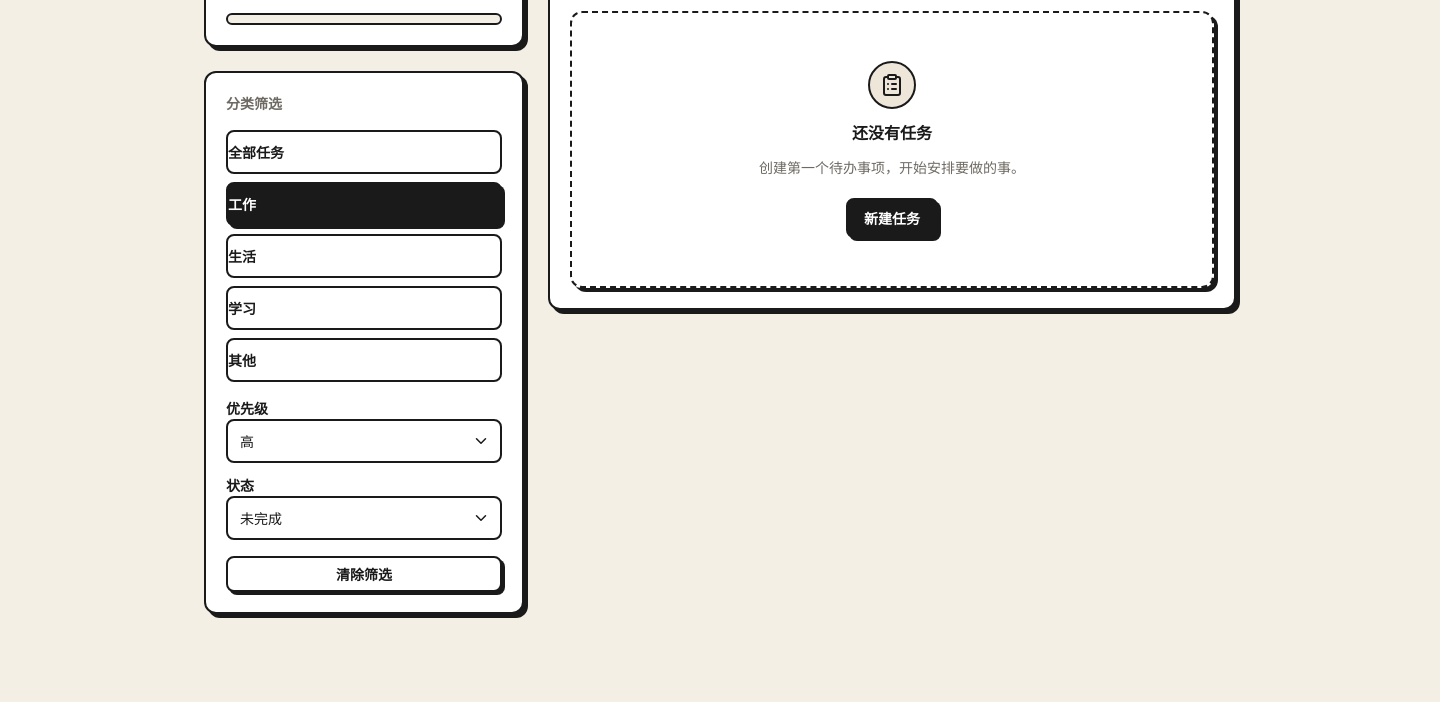
Test case: App 筛选接入 › 清除筛选：三维与关键词全部复位，并弹出 Toast 反馈
The width and height of the screenshot is (1440, 702).
(page scrolled)
Click the button "清除筛选" at (364, 574), box [226,556,502,592]
(page scrolled)
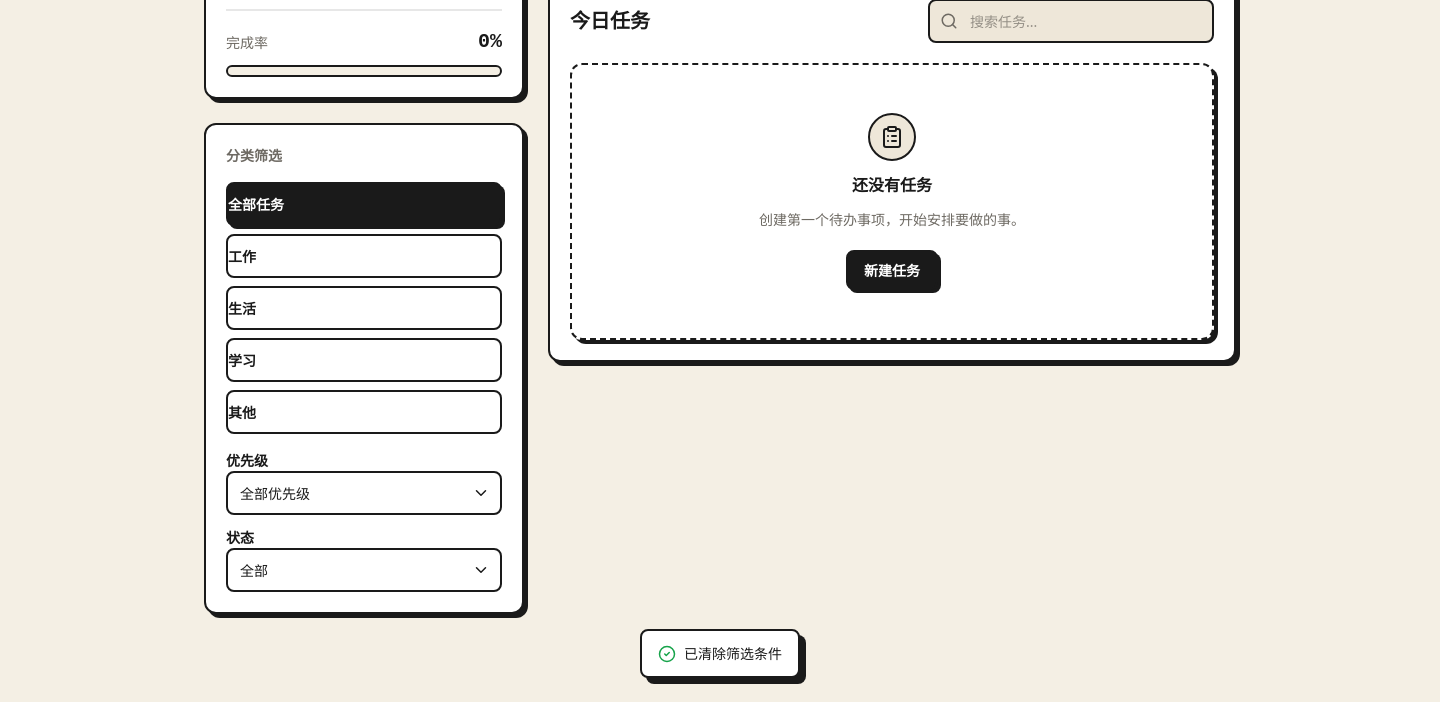
Expected: the message reads "已清除筛选条件", [684,644,782,663]
